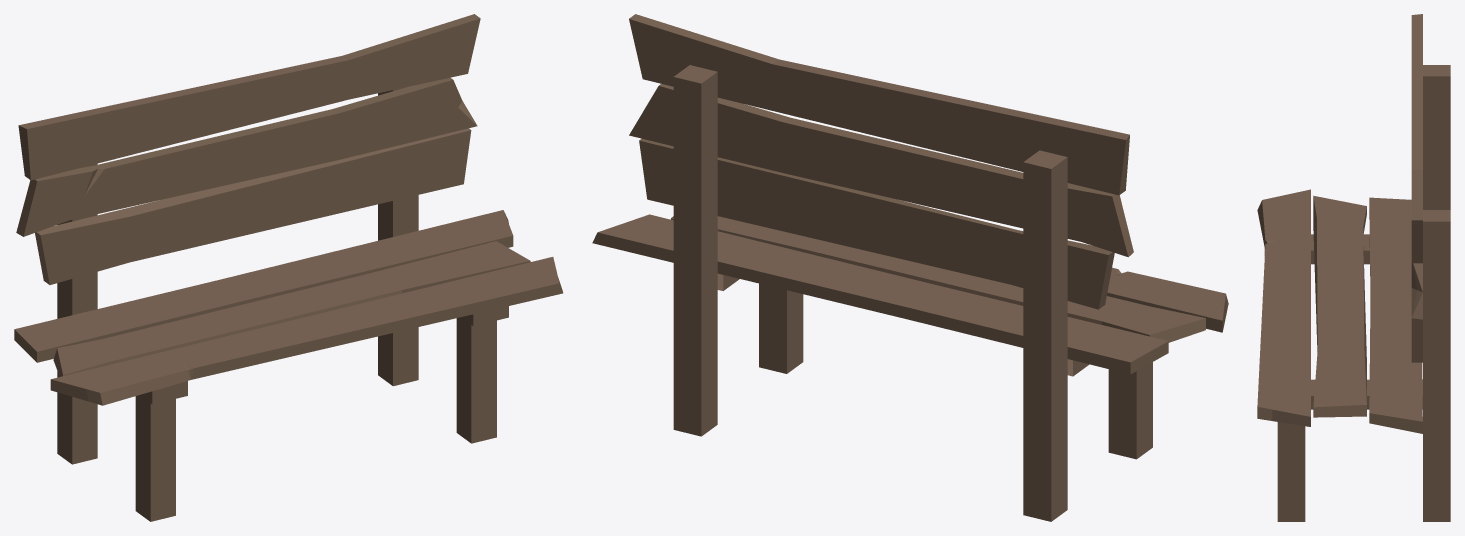
File: Bench_2.fbx
The picture shows the model from 3 angles, left to right: view 1: azimuth 30°, elevation 25°; view 2: azimuth 150°, elevation 25°; view 3: azimuth 270°, elevation 25°; orthographic projection. The views are drawn at different scales.
Visible parts, largest first — view 1: Bench_2; view 2: Bench_2; view 3: Bench_2.
Boxes of the visible parts, <box> form: Bench_2: <box>14,14,563,521</box>; Bench_2: <box>592,14,1228,521</box>; Bench_2: <box>1257,14,1450,521</box>.
Bounding box in the file's own units: 159 × 55.53 × 104.
